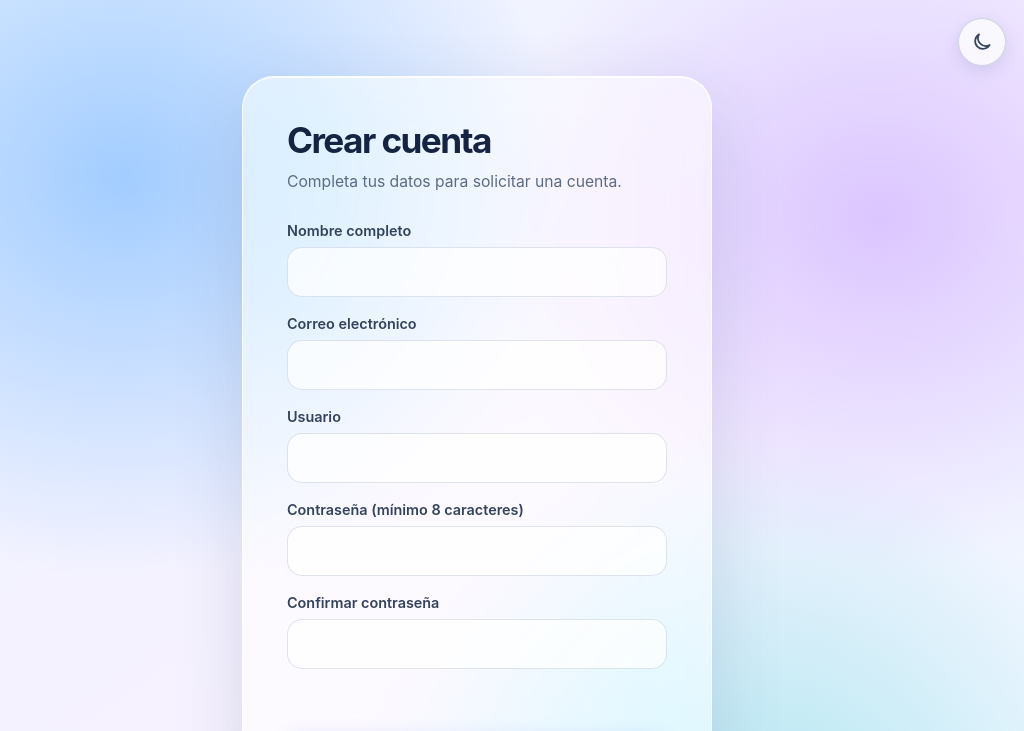
Scenario: SignupPage › validates matching passwords and explains that the demo does not create accounts
The width and height of the screenshot is (1024, 731).
Type "Ada Lovelace" into the field labelled "Nombre completo". click: (477, 272)
box: [287,247,667,297]
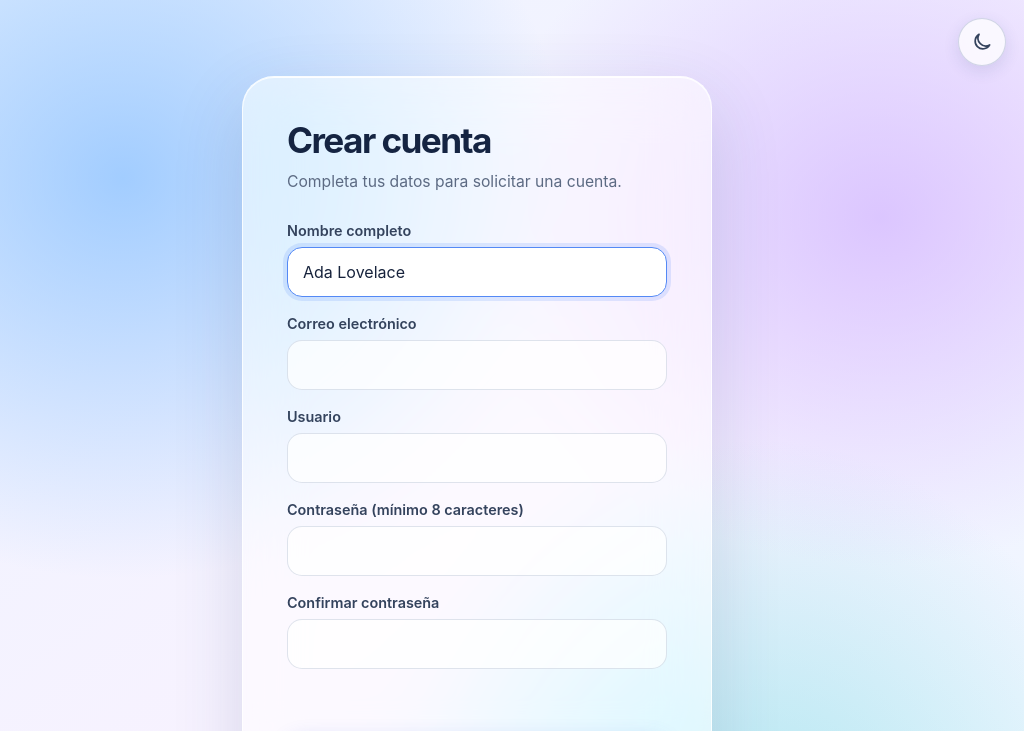
Type "ada@example.com" into the field labelled "Correo electrónico". click: (477, 365)
box: [287,340,667,390]
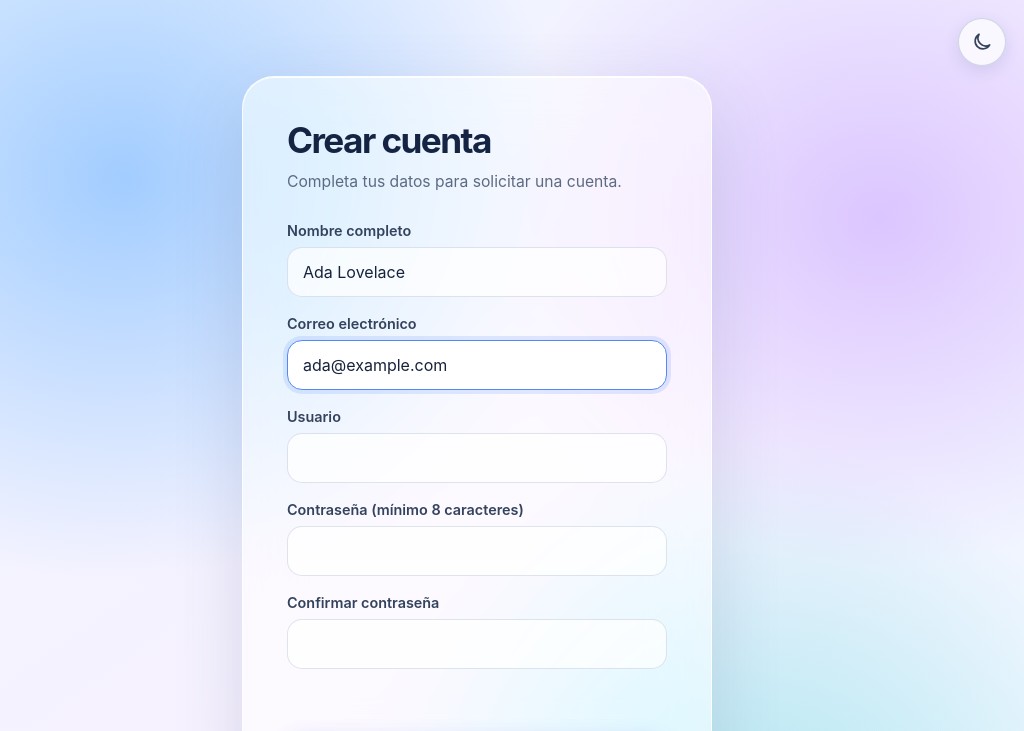
Type "ada" into the field labelled "Usuario". click: (477, 458)
box: [287,433,667,483]
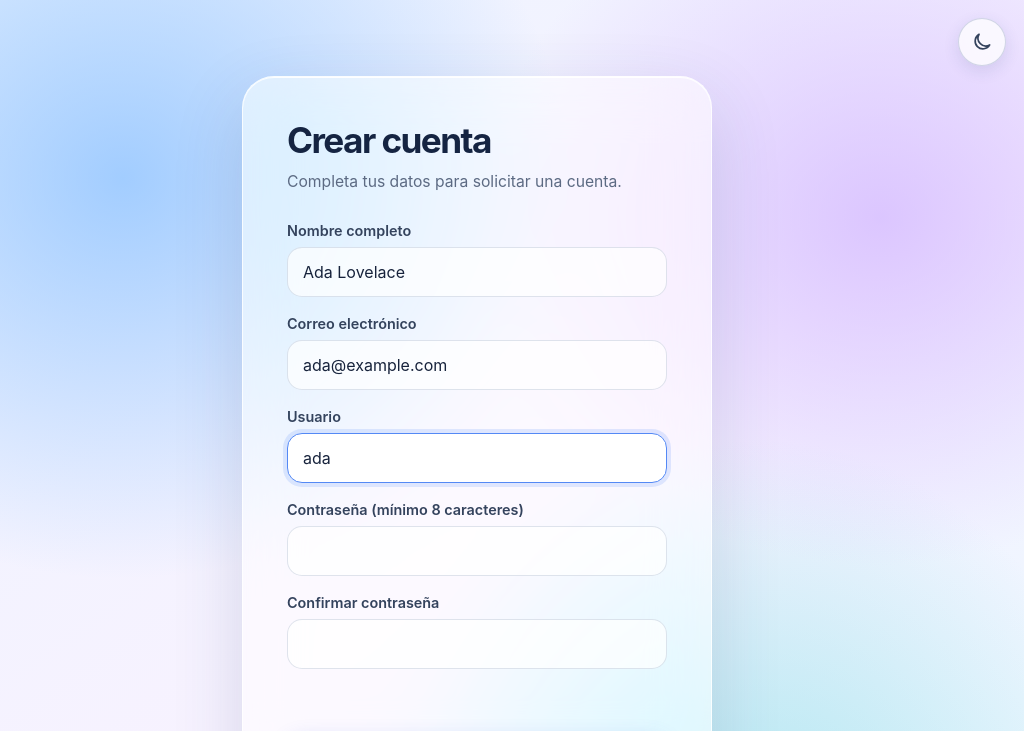
Type "secure-pass" into the password field labelled "Contraseña (mínimo 8 caracteres)". click: (477, 551)
box: [287,526,667,576]
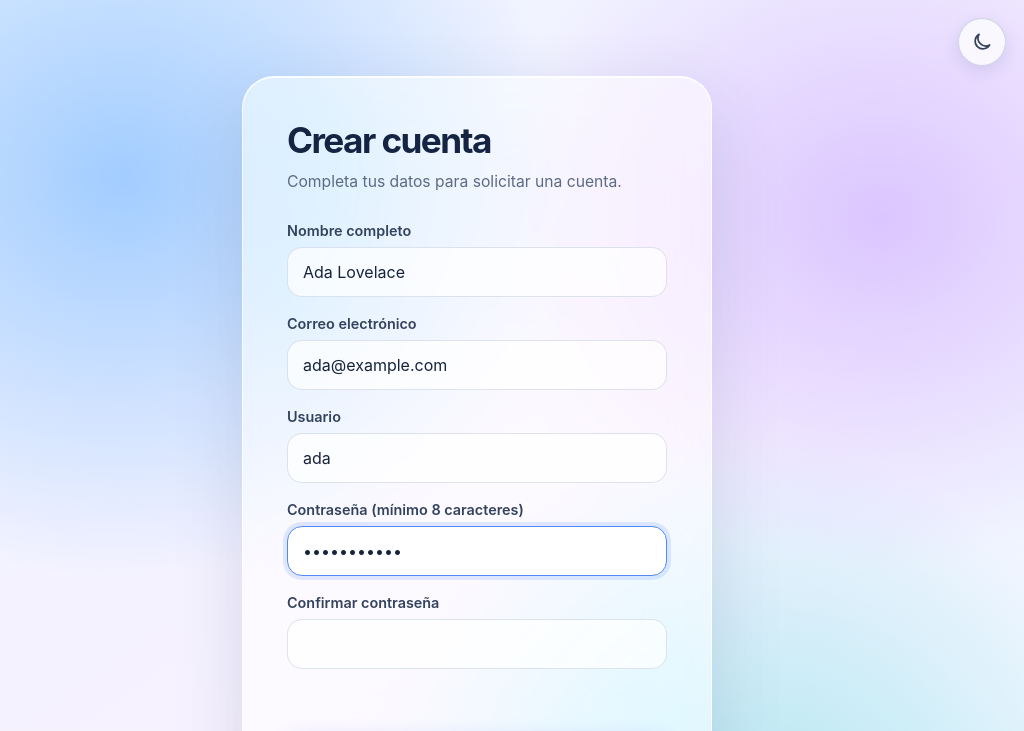
Type "secure-pass" into the password field labelled "Confirmar contraseña". click: (477, 644)
box: [287,619,667,669]
(page scrolled)
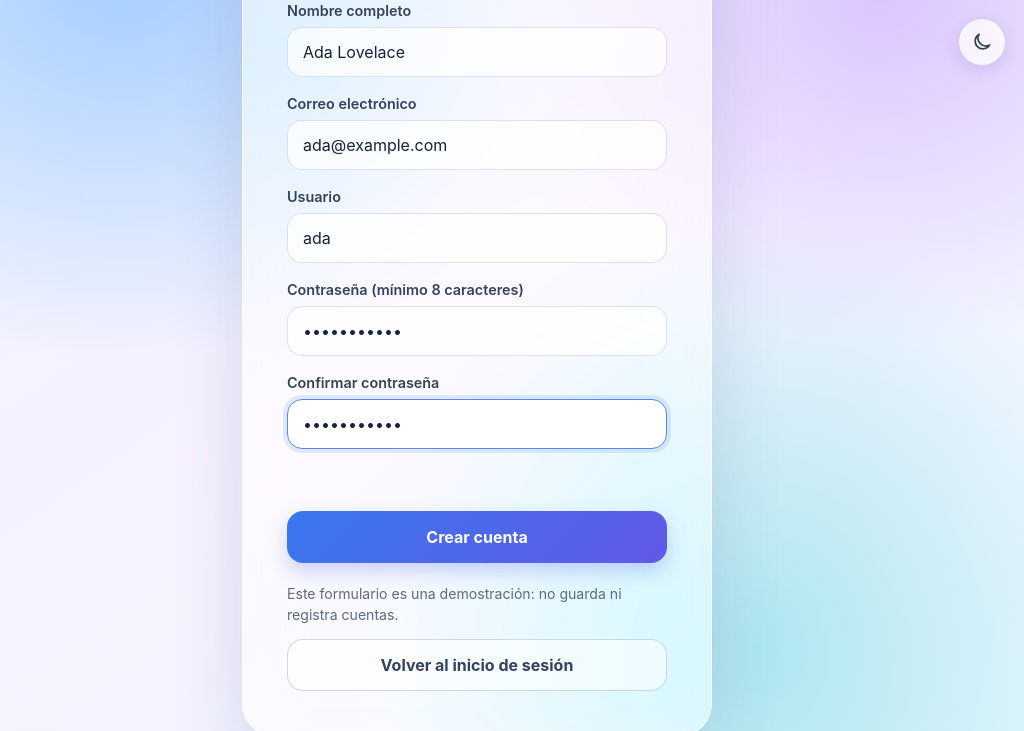
Click the button "Crear cuenta". click: (477, 536)
box: [287,510,667,562]
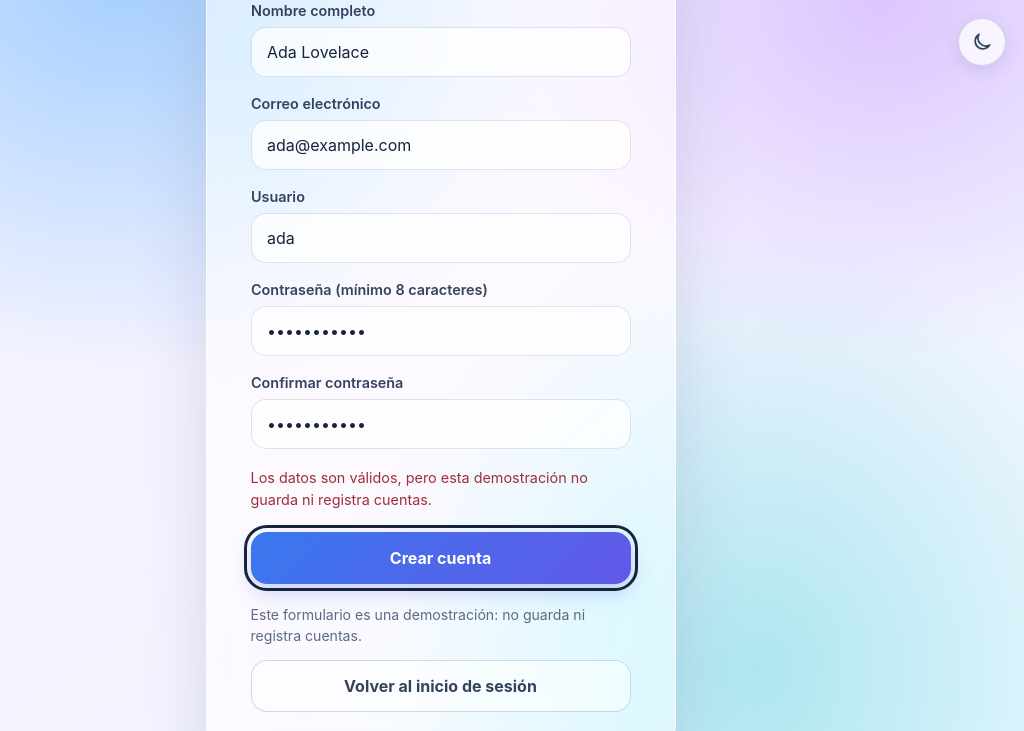
Result: the message reads "Los datos son válidos, pero esta demostración no guarda ni registra cuentas." at [250,469,588,508]
